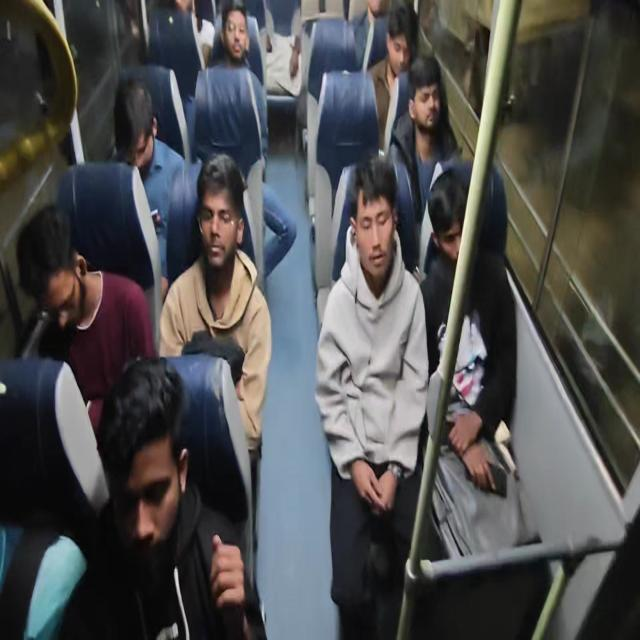person: (95, 356, 202, 572), (12, 200, 92, 374), (104, 68, 179, 198), (429, 160, 506, 284), (192, 161, 257, 275), (391, 23, 460, 116), (259, 19, 307, 121), (351, 162, 398, 264), (158, 0, 202, 55), (370, 0, 408, 54), (405, 76, 437, 126), (222, 12, 249, 69)
